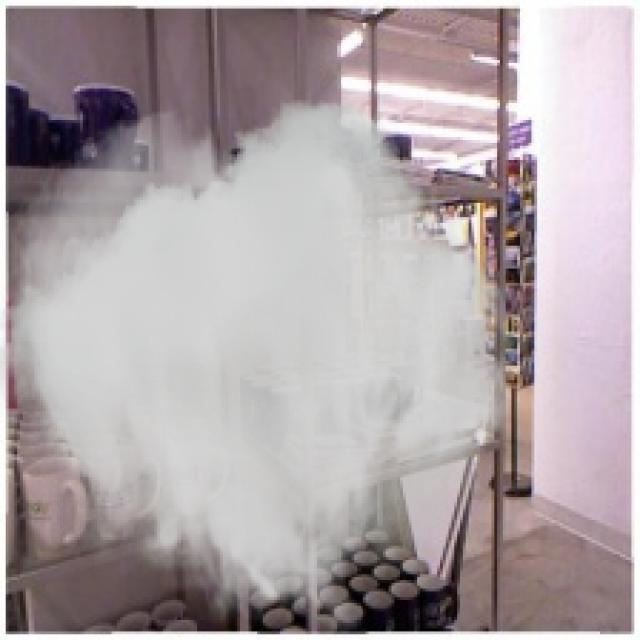Smoke: (0, 100, 520, 637)
